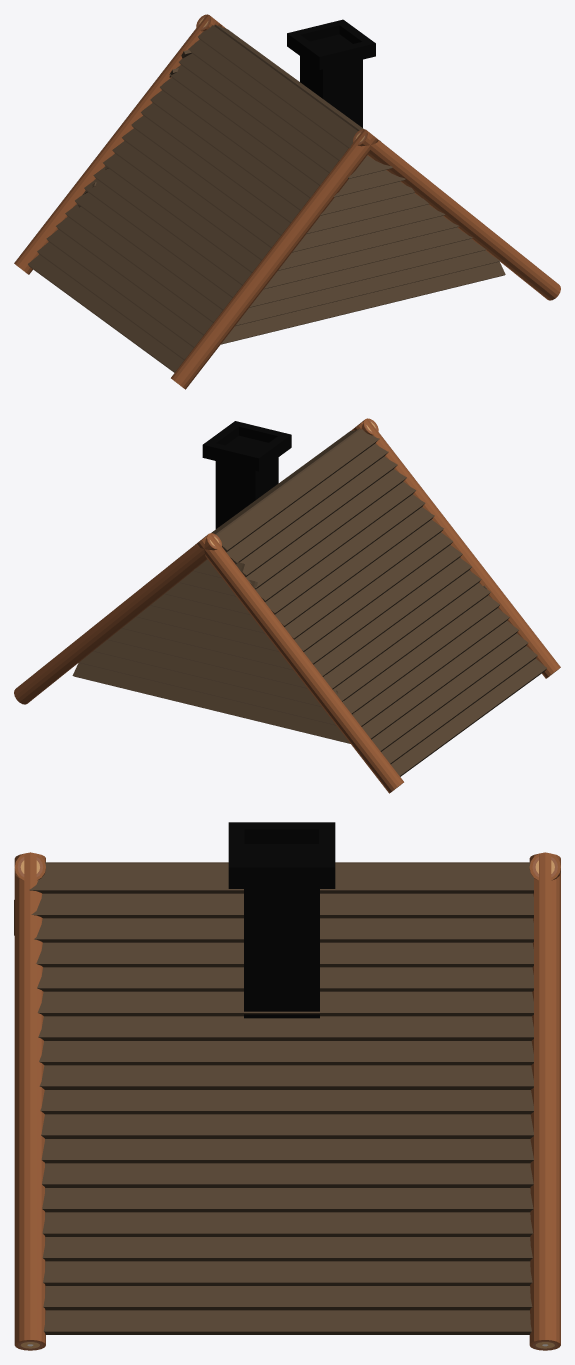
Rendered from house_roof.fbx.
3 views of the same model, one above another, from view 1: azimuth 30°, elevation 25°; view 2: azimuth 150°, elevation 25°; view 3: azimuth 270°, elevation 25° (orthographic). The views are drawn at different scales.
Visible parts, largest first — view 1: Cube.015, Cube.014, Cylinder.005, Cube.013, Cylinder.004; view 2: Cube.015, Cube.012, Cylinder.004, Cube.013, Cylinder.005; view 3: Cube.013, Cylinder.005, Cylinder.004, Cube.015.
Part boxes in pixels (bbox=[...]): Cube.015: bbox=[28, 25, 357, 372]; Cube.014: bbox=[221, 155, 505, 344]; Cylinder.005: bbox=[171, 129, 560, 389]; Cube.013: bbox=[214, 19, 380, 141]; Cylinder.004: bbox=[14, 14, 225, 274]; Cube.015: bbox=[217, 429, 546, 776]; Cube.012: bbox=[72, 559, 354, 743]; Cylinder.004: bbox=[14, 533, 403, 793]; Cube.013: bbox=[202, 421, 360, 534]; Cylinder.005: bbox=[351, 418, 560, 678]; Cube.013: bbox=[29, 822, 533, 1334]; Cylinder.005: bbox=[14, 852, 45, 1350]; Cylinder.004: bbox=[529, 852, 560, 1350]; Cube.015: bbox=[45, 862, 530, 863].
Size of the model in its own units: 4671 by 2764 by 3480.
